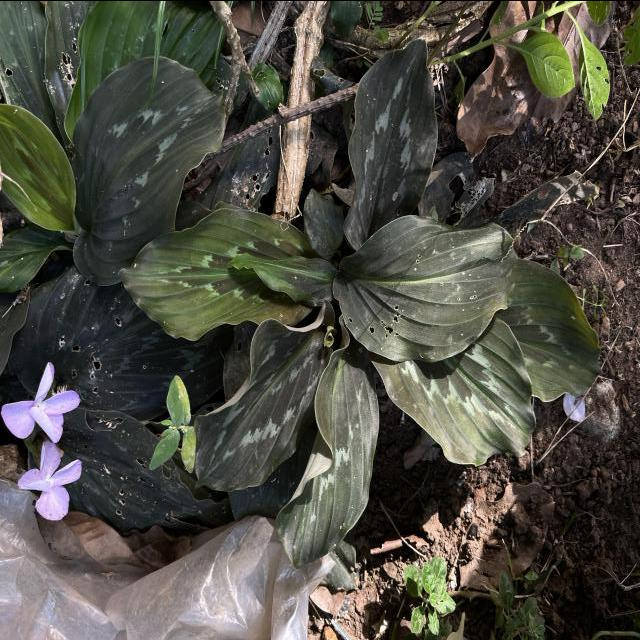Kaempferia galanga linn: (70, 53, 228, 288), (330, 212, 520, 364), (116, 205, 323, 344), (192, 297, 338, 493), (274, 314, 382, 570), (363, 314, 538, 468), (342, 36, 439, 253), (225, 248, 338, 308)
